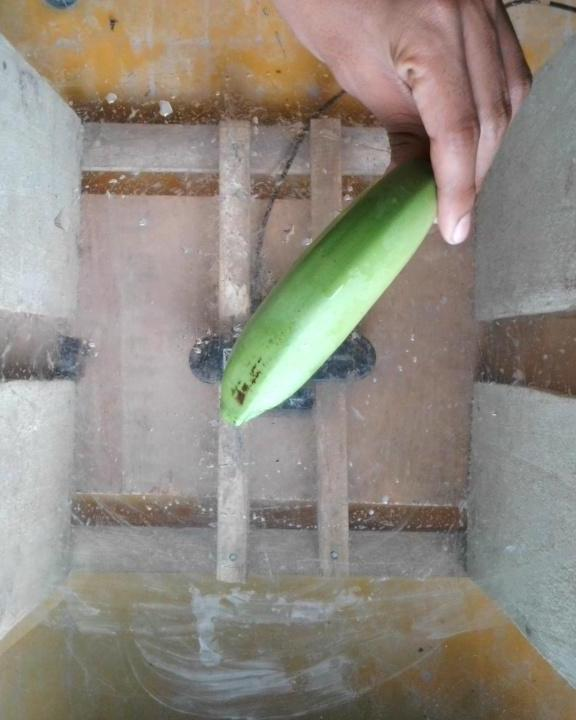CLASS B: (210, 146, 471, 439)
Class A: (221, 343, 272, 412)
